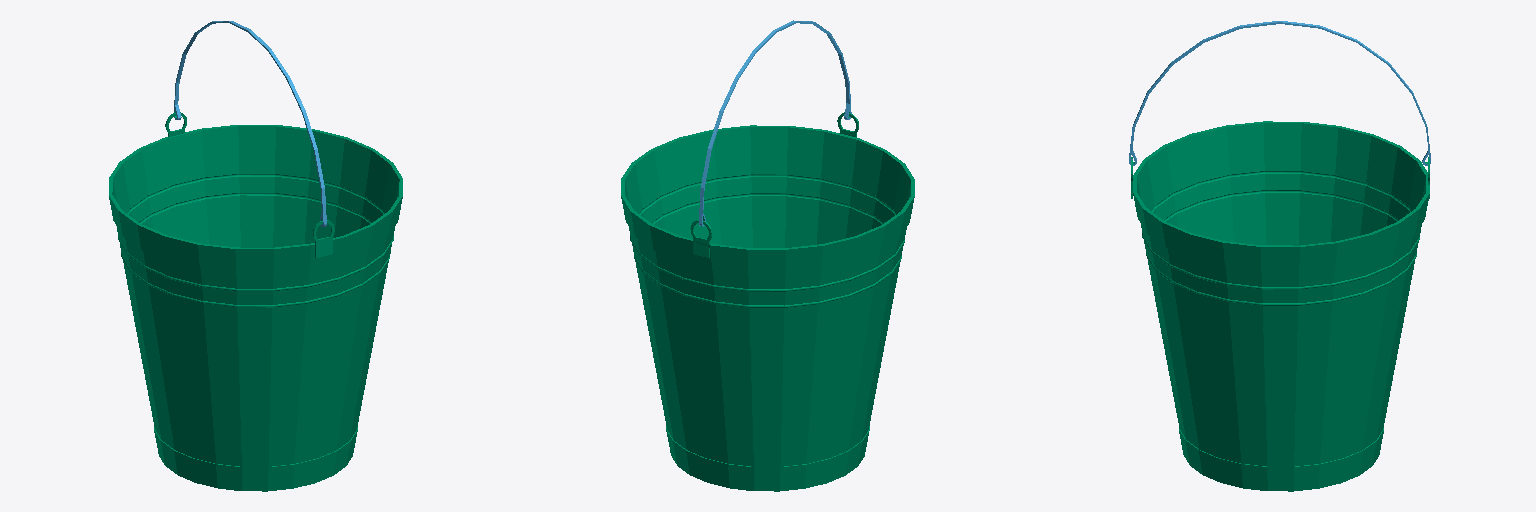
The robot description file, URDF, robot "partnet_59d99d0a2b385fe81b1a00a31bfed97b":
<?xml version="1.0" ?>
<robot name="partnet_59d99d0a2b385fe81b1a00a31bfed97b">
	<link name="base"/>
	<link name="link_0">
		<visual name="handle-1">
			<origin xyz="0 -0.48305199267419374 -0.02847403130494055"/>
			<geometry>
				<mesh filename="textured_objs/original-7.obj"  scale="0.1 0.1 0.1"/>
			</geometry>
		</visual>
		<collision>
			<origin xyz="0 -0.48305199267419374 -0.02847403130494055"/>
			<geometry>
				<mesh filename="textured_objs/original-7.obj"  scale="0.1 0.1 0.1"/>
			</geometry>
		</collision>
	</link>
	<joint name="joint_0" type="revolute">
		<origin xyz="0 0.48305199267419374 0.02847403130494055"/>
		<axis xyz="-1 0 0"/>
		<child link="link_0"/>
		<parent link="link_1"/>
		<limit lower="-2.249380339970292" upper="1.985486557068749"/>
	</joint>
	<link name="link_1">
		<visual name="base_body-2">
			<origin xyz="0 0 0"/>
			<geometry>
				<mesh filename="textured_objs/original-4.obj"  scale="0.1 0.1 0.1"/>
			</geometry>
		</visual>
		<visual name="base_body-2">
			<origin xyz="0 0 0"/>
			<geometry>
				<mesh filename="textured_objs/original-3.obj"  scale="0.1 0.1 0.1"/>
			</geometry>
		</visual>
		<visual name="base_body-2">
			<origin xyz="0 0 0"/>
			<geometry>
				<mesh filename="textured_objs/original-2.obj"  scale="0.1 0.1 0.1"/>
			</geometry>
		</visual>
		<visual name="base_body-2">
			<origin xyz="0 0 0"/>
			<geometry>
				<mesh filename="textured_objs/original-8.obj"  scale="0.1 0.1 0.1"/>
			</geometry>
		</visual>
		<visual name="base_body-2">
			<origin xyz="0 0 0"/>
			<geometry>
				<mesh filename="textured_objs/original-13.obj"  scale="0.1 0.1 0.1"/>
			</geometry>
		</visual>
		<visual name="base_body-2">
			<origin xyz="0 0 0"/>
			<geometry>
				<mesh filename="textured_objs/original-5.obj"  scale="0.1 0.1 0.1"/>
			</geometry>
		</visual>
		<visual name="base_body-2">
			<origin xyz="0 0 0"/>
			<geometry>
				<mesh filename="textured_objs/original-6.obj"  scale="0.1 0.1 0.1"/>
			</geometry>
		</visual>
		<visual name="base_body-2">
			<origin xyz="0 0 0"/>
			<geometry>
				<mesh filename="textured_objs/original-11.obj"  scale="0.1 0.1 0.1"/>
			</geometry>
		</visual>
		<visual name="base_body-2">
			<origin xyz="0 0 0"/>
			<geometry>
				<mesh filename="textured_objs/original-1.obj"  scale="0.1 0.1 0.1"/>
			</geometry>
		</visual>
		<visual name="base_body-2">
			<origin xyz="0 0 0"/>
			<geometry>
				<mesh filename="textured_objs/original-10.obj"  scale="0.1 0.1 0.1"/>
			</geometry>
		</visual>
		<visual name="base_body-2">
			<origin xyz="0 0 0"/>
			<geometry>
				<mesh filename="textured_objs/original-14.obj"  scale="0.1 0.1 0.1"/>
			</geometry>
		</visual>
		<collision>
			<origin xyz="0 0 0"/>
			<geometry>
				<mesh filename="textured_objs/original-4.obj"  scale="0.1 0.1 0.1"/>
			</geometry>
		</collision>
		<collision>
			<origin xyz="0 0 0"/>
			<geometry>
				<mesh filename="textured_objs/original-3.obj"  scale="0.1 0.1 0.1"/>
			</geometry>
		</collision>
		<collision>
			<origin xyz="0 0 0"/>
			<geometry>
				<mesh filename="textured_objs/original-2.obj"  scale="0.1 0.1 0.1"/>
			</geometry>
		</collision>
		<collision>
			<origin xyz="0 0 0"/>
			<geometry>
				<mesh filename="textured_objs/original-8.obj"  scale="0.1 0.1 0.1"/>
			</geometry>
		</collision>
		<collision>
			<origin xyz="0 0 0"/>
			<geometry>
				<mesh filename="textured_objs/original-13.obj"  scale="0.1 0.1 0.1"/>
			</geometry>
		</collision>
		<collision>
			<origin xyz="0 0 0"/>
			<geometry>
				<mesh filename="textured_objs/original-5.obj"  scale="0.1 0.1 0.1"/>
			</geometry>
		</collision>
		<collision>
			<origin xyz="0 0 0"/>
			<geometry>
				<mesh filename="textured_objs/original-6.obj"  scale="0.1 0.1 0.1"/>
			</geometry>
		</collision>
		<collision>
			<origin xyz="0 0 0"/>
			<geometry>
				<mesh filename="textured_objs/original-11.obj"  scale="0.1 0.1 0.1"/>
			</geometry>
		</collision>
		<collision>
			<origin xyz="0 0 0"/>
			<geometry>
				<mesh filename="textured_objs/original-1.obj"  scale="0.1 0.1 0.1"/>
			</geometry>
		</collision>
		<collision>
			<origin xyz="0 0 0"/>
			<geometry>
				<mesh filename="textured_objs/original-10.obj"  scale="0.1 0.1 0.1"/>
			</geometry>
		</collision>
		<collision>
			<origin xyz="0 0 0"/>
			<geometry>
				<mesh filename="textured_objs/original-14.obj"  scale="0.1 0.1 0.1"/>
			</geometry>
		</collision>
	</link>
	<joint name="joint_1" type="fixed">
		<origin rpy="1.570796326794897 0 -1.570796326794897" xyz="0 0 0"/>
		<child link="link_1"/>
		<parent link="base"/>
	</joint>
</robot>

--- What the picture shows (computed from the rendered views, not written in the file) ---
The picture shows the robot from 3 angles, left to right: view 1: azimuth 30°, elevation 25°; view 2: azimuth 150°, elevation 25°; view 3: azimuth 270°, elevation 25°; orthographic projection.
Model partnet_59d99d0a2b385fe81b1a00a31bfed97b with 3 links and 2 joints (1 revolute, 1 fixed), rooted at base, posed every joint at zero.
Visible links, largest first — view 1: link_1, link_0; view 2: link_1, link_0; view 3: link_1, link_0.
Link boxes in pixels (x1,y1,x2,y2): link_1: (109,111,402,491); link_0: (174,21,326,226); link_1: (621,112,914,491); link_0: (699,20,851,226); link_1: (1131,121,1429,491); link_0: (1129,21,1430,165).
Size in the robot's own frame: 0.0951 by 0.0967 by 0.1501 metres.
Meshes: 12 distinct files referenced, 12 mesh visuals loaded (12 OBJ).
